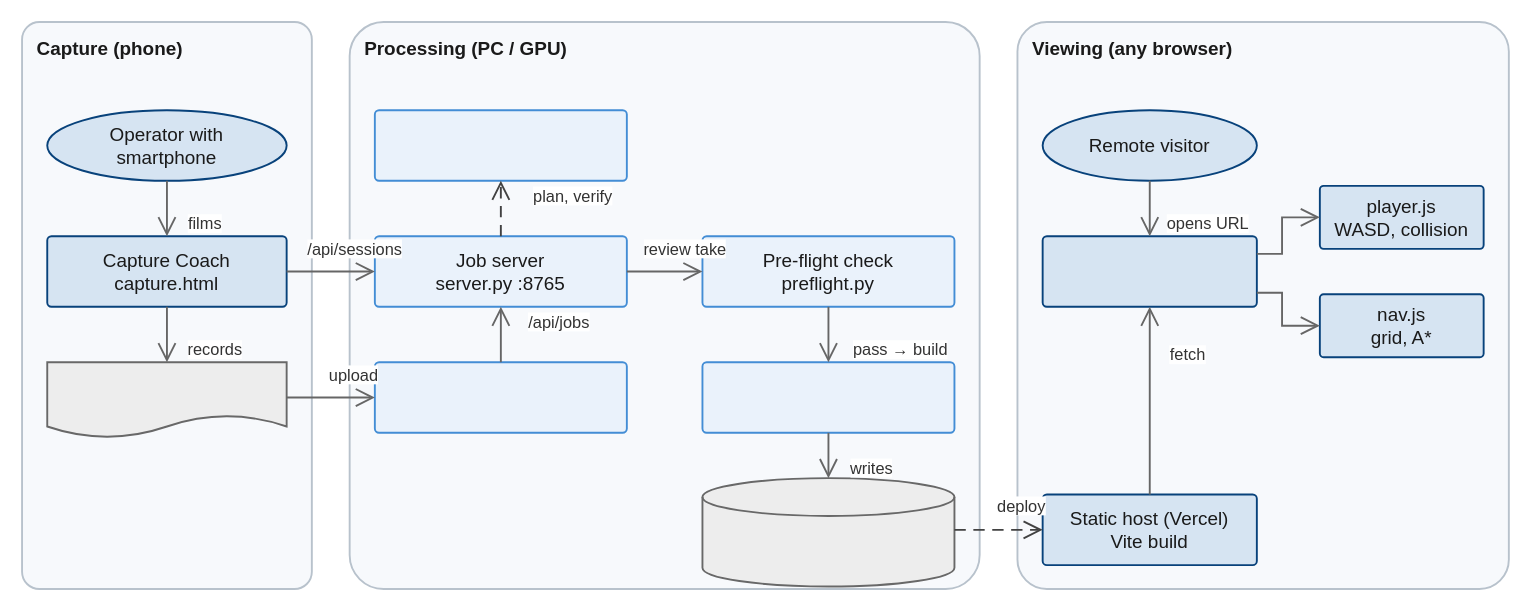
The diagram is 1532 pixels wide and 612 high, and some of its shapes have lost their labels. The centre of each missing label's shape, as x and y in pixels:
"Orchestrator wayfarer.py" belongs at pixel 828 397.
"Scene package scene.json + scene.sog" belongs at pixel 828 532.
"Video clips + scale references" belongs at pixel 166 399.
"Viewer main.js three.js + Spark LoD" belongs at pixel 1149 271.
"Vision model Ollama / Claude API" belongs at pixel 500 145.
"Wayfarer Studio upload.html" belongs at pixel 500 397.
